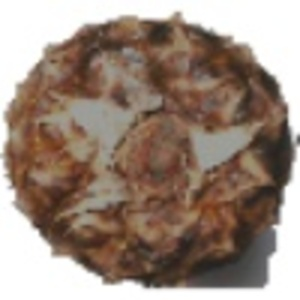abacaxi: (8, 14, 294, 283)
